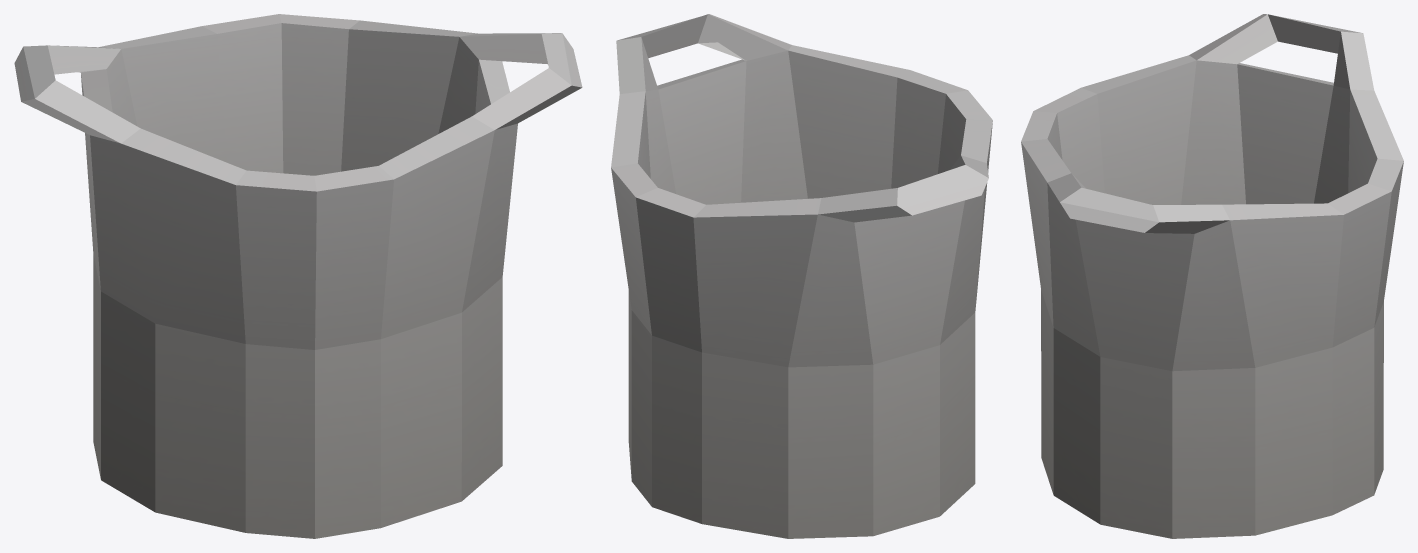
File: KitchenPot.fbx
3 renders of one model, left to right at view 1: azimuth 30°, elevation 25°; view 2: azimuth 150°, elevation 25°; view 3: azimuth 270°, elevation 25°, orthographic. The views are drawn at different scales.
Parts seen in each view (by area): view 1: pot; view 2: pot; view 3: pot.
Part boxes in pixels (x1,y1,x2,y2): pot: (14,14,582,538); pot: (611,14,992,538); pot: (1021,14,1403,538).
Size of the model in its own units: 220 by 178 by 173.
